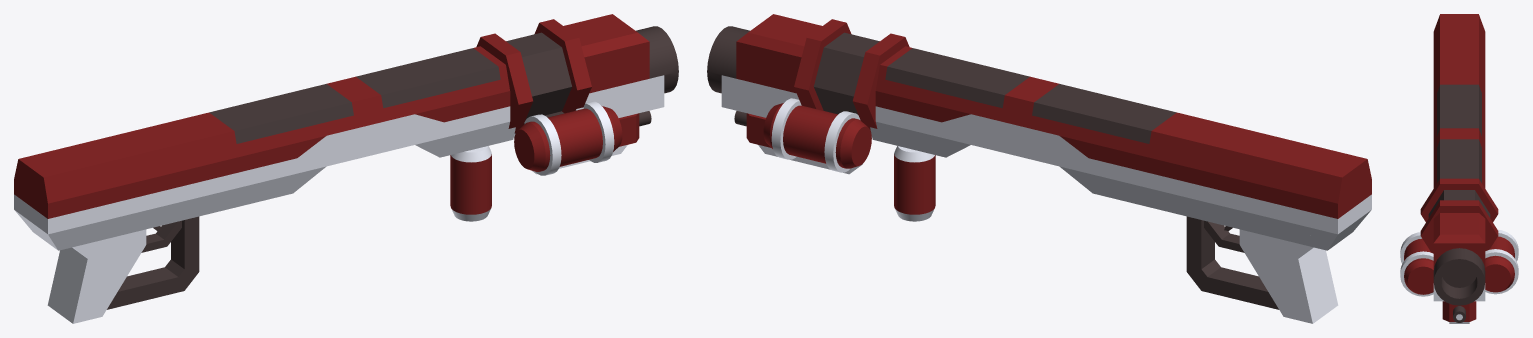
The model's file is Flamethrower1.obj.
3 renders of one model, left to right at view 1: azimuth 30°, elevation 25°; view 2: azimuth 150°, elevation 25°; view 3: azimuth 270°, elevation 25°, orthographic. The views are drawn at different scales.
Visible parts, largest first — view 1: mergedBlocks; view 2: mergedBlocks; view 3: mergedBlocks.
Part boxes in pixels (x1,y1,x2,y2): mergedBlocks: (14,14,678,323); mergedBlocks: (707,14,1371,323); mergedBlocks: (1400,14,1518,323).
Bounding box in the file's own units: 4.3 × 1.06 × 0.92.
